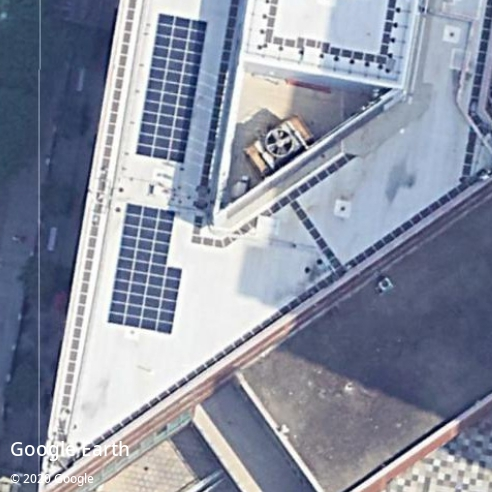Vent: (266, 130, 293, 156)
